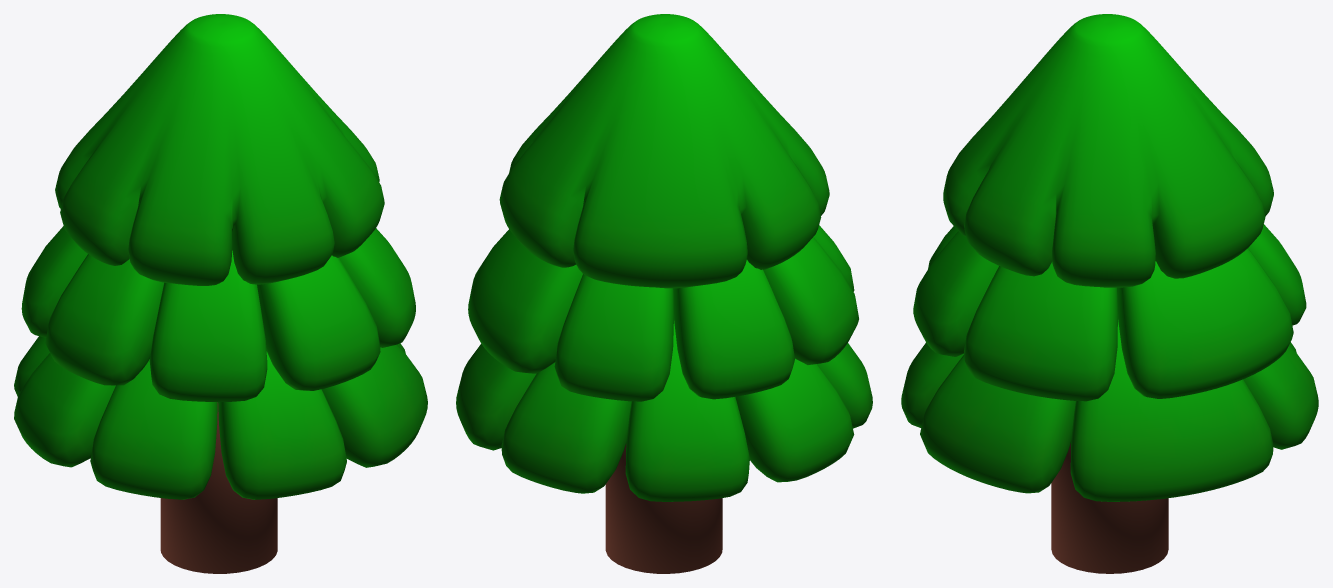
Rendered from StyleTree1.fbx.
3 renders of one model, left to right at view 1: azimuth 30°, elevation 25°; view 2: azimuth 150°, elevation 25°; view 3: azimuth 270°, elevation 25°, orthographic.
Visible parts, largest first — view 1: Cylinder; view 2: Cylinder; view 3: Cylinder.
Part boxes in pixels (bbox=[...]): Cylinder: bbox=[14, 14, 427, 573]; Cylinder: bbox=[456, 14, 872, 573]; Cylinder: bbox=[901, 14, 1318, 573].
Size of the model in its own units: 192 by 268 by 192.
